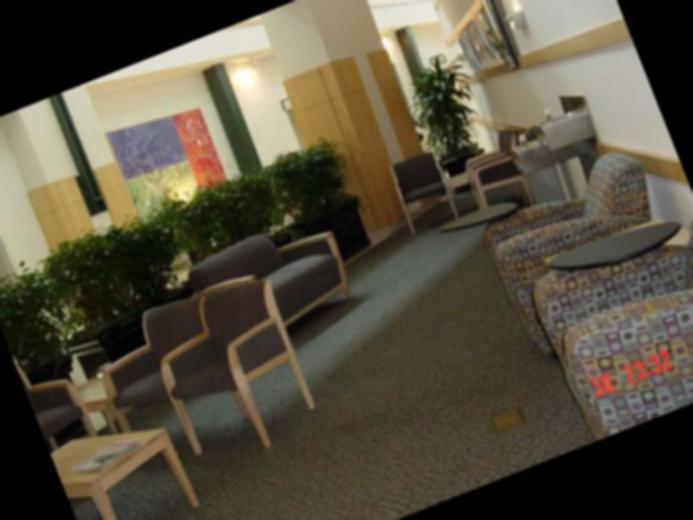Matera: (62, 215, 195, 341), (170, 169, 293, 275), (401, 56, 497, 174), (271, 135, 359, 240), (0, 268, 68, 381)
